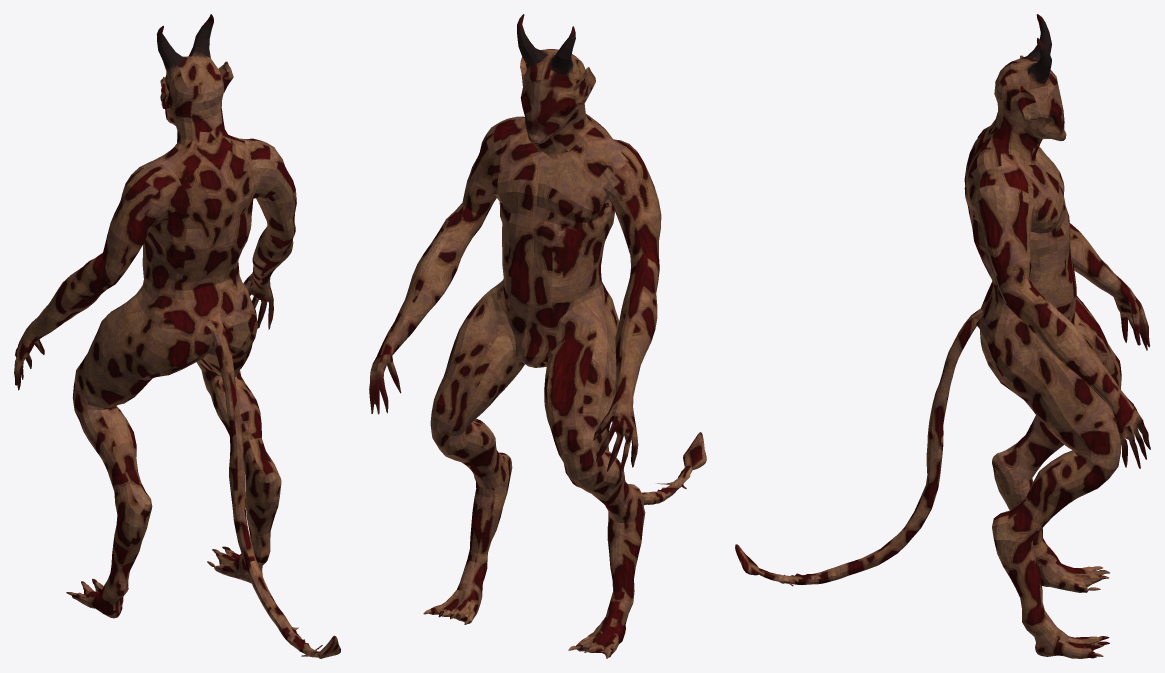
File: Monstre.fbx
The picture shows the model from 3 angles, left to right: view 1: azimuth 30°, elevation 25°; view 2: azimuth 150°, elevation 25°; view 3: azimuth 270°, elevation 25°; orthographic projection. The views are drawn at different scales.
Parts seen in each view (by area): view 1: monstre_low:ZBrush_defualt_group10; view 2: monstre_low:ZBrush_defualt_group10; view 3: monstre_low:ZBrush_defualt_group10.
Part boxes in pixels (x1,y1,x2,y2): monstre_low:ZBrush_defualt_group10: [14, 14, 340, 658]; monstre_low:ZBrush_defualt_group10: [369, 14, 706, 658]; monstre_low:ZBrush_defualt_group10: [735, 14, 1150, 658].
Bounding box in the file's own units: 1.08 × 2.32 × 1.47.
